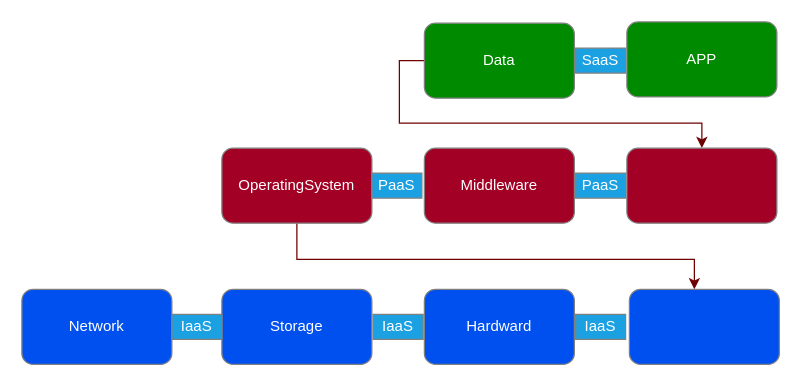
This 801x386 diagram has some shape labels left out. The shapes that lost their labels are listed below. From the top down, each one's box as (x1, y1, x2, y2) in pixels, then its label:
(626, 147, 777, 223): Runtime
(628, 288, 779, 364): Virtualization
